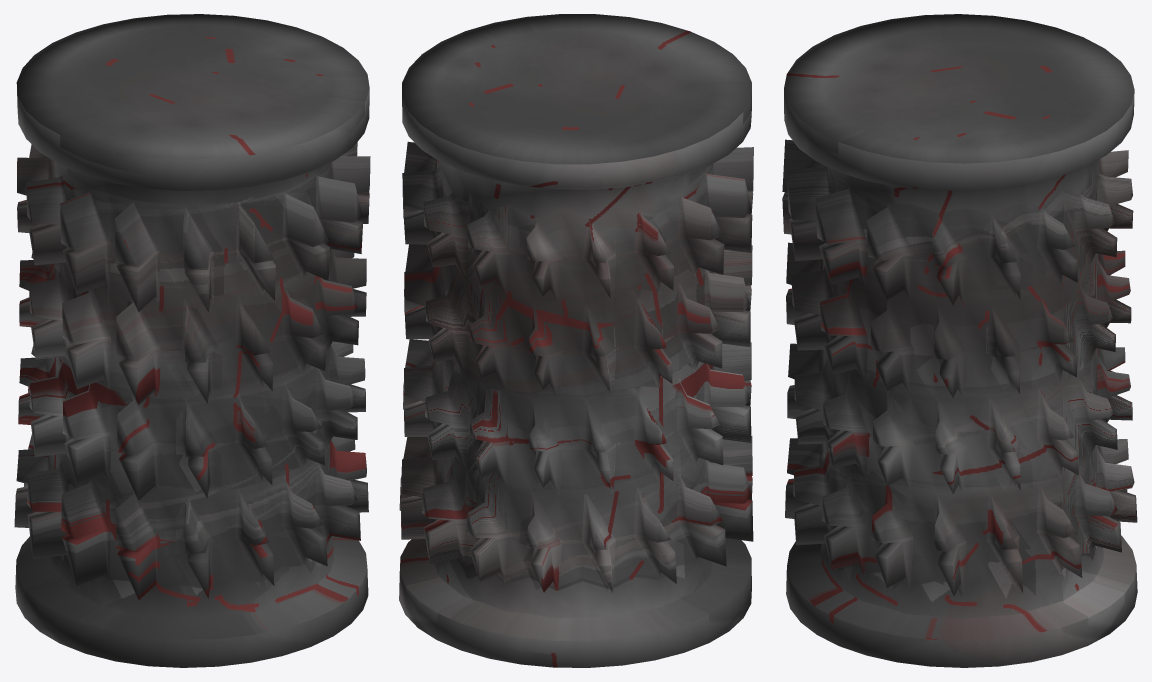
Rendered from Spinning Rock.fbx.
3 renders of one model, left to right at view 1: azimuth 30°, elevation 25°; view 2: azimuth 150°, elevation 25°; view 3: azimuth 270°, elevation 25°, orthographic.
Parts seen in each view (by area): view 1: Cylinder; view 2: Cylinder; view 3: Cylinder.
Boxes of the visible parts, <box> form: Cylinder: <box>14,14,370,667</box>; Cylinder: <box>399,14,753,667</box>; Cylinder: <box>782,14,1137,667</box>.
Bounding box in the file's own units: 1274 × 2000 × 1270.
Materials: 1 (1 with a texture image).
